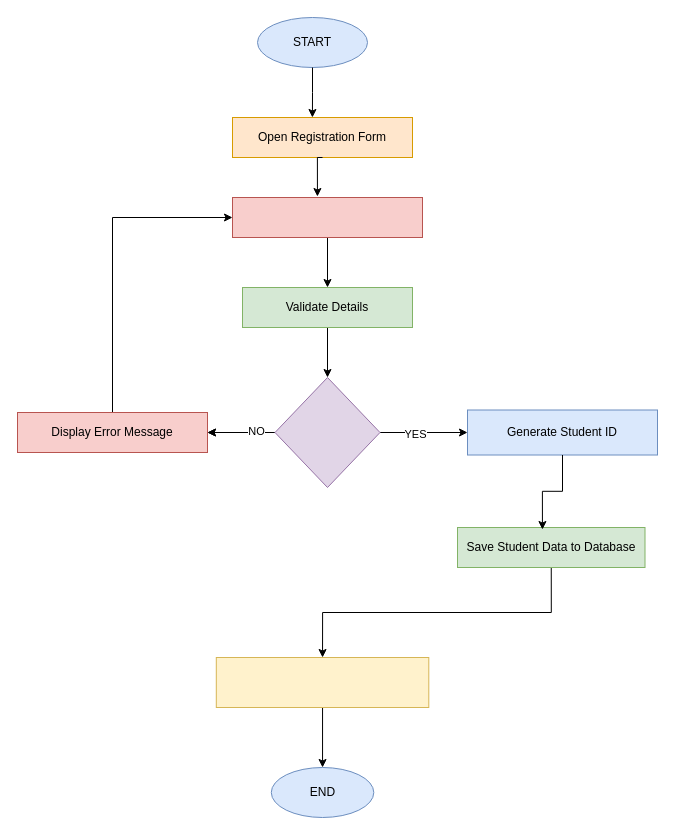
The diagram is 675 pixels wide and 835 high, and some of its shapes have lost their labels. Each missing label, with the centre of its shape:
"Confirm Registration" belongs at [322,682].
"Detail Valid?" belongs at [327,432].
"Enter student Details" belongs at [327,217].
